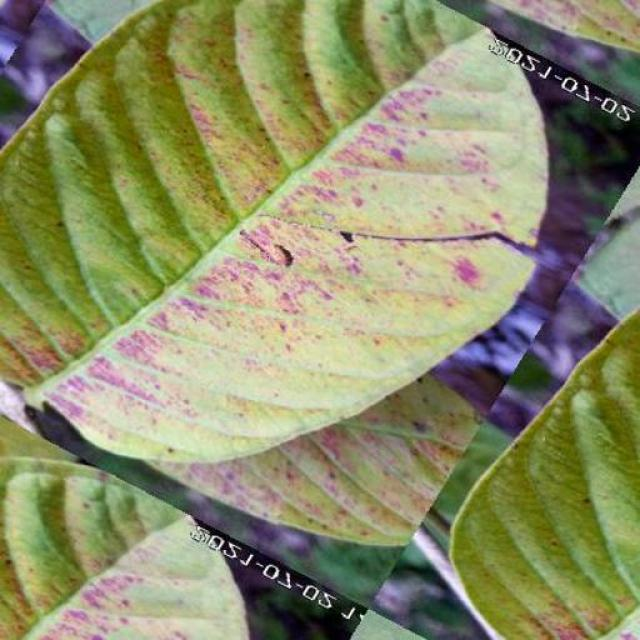Rust: (0, 0, 548, 544), (452, 315, 640, 639), (0, 458, 245, 640)
